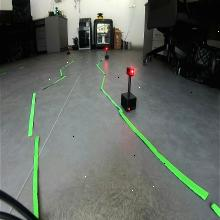red: (126, 66, 134, 78)
